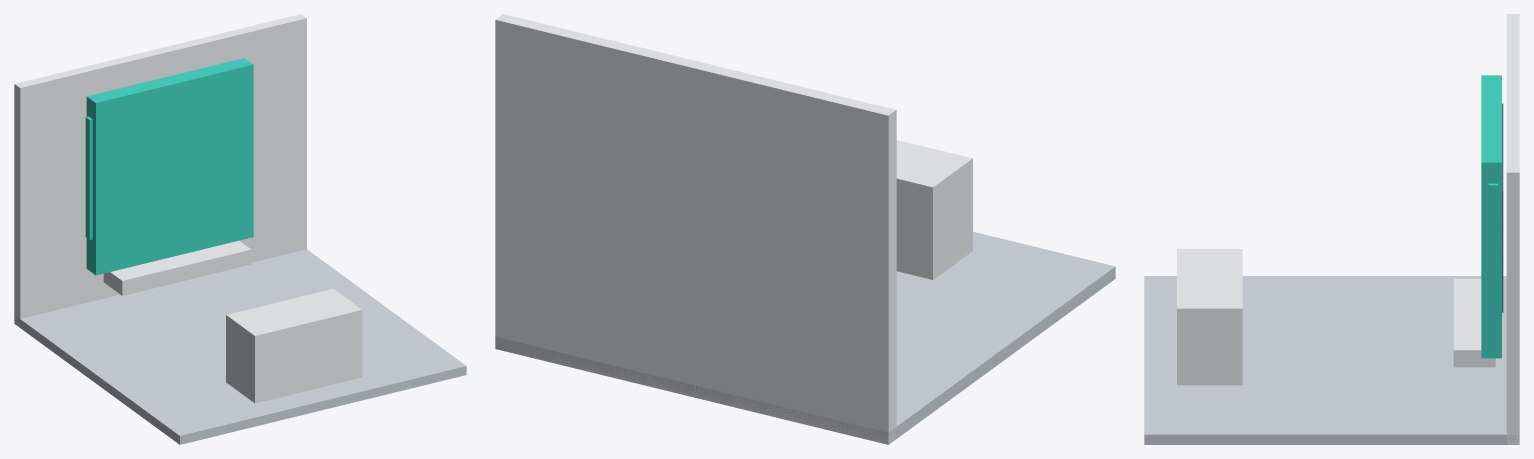
3 views of the same model, side by side, from view 1: azimuth 30°, elevation 25°; view 2: azimuth 150°, elevation 25°; view 3: azimuth 270°, elevation 25° (orthographic). The views are drawn at different scales.
Visible parts, largest first — view 1: Exhibition Booth Concept; view 2: Exhibition Booth Concept; view 3: Exhibition Booth Concept.
Part boxes in pixels (x1=…): Exhibition Booth Concept: x1=14, y1=14, x2=466, y2=444; Exhibition Booth Concept: x1=495, y1=14, x2=1115, y2=444; Exhibition Booth Concept: x1=1144, y1=14, x2=1519, y2=444.
Bounding box in the file's own units: 4 × 3.2 × 4.
